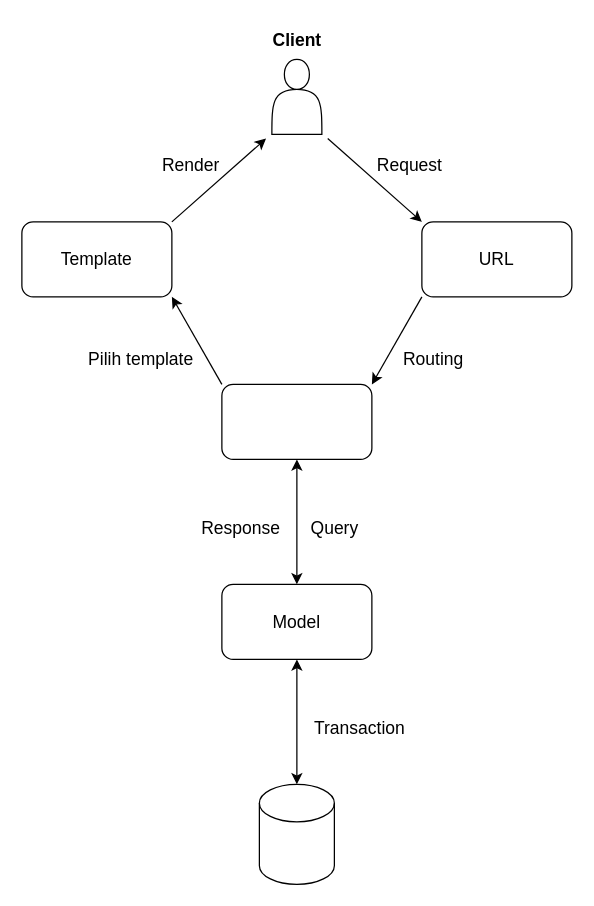
Image size: 594x906. Some labels were removed from this diagram. The shapes that lost their labels are listed below. From the top down, each one's centre as x and y in pixels, then its label:
(296,421): Views
(296,833): DB
